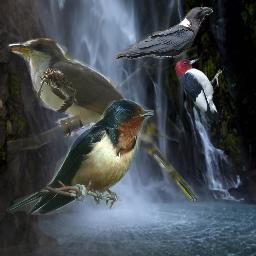Crow: (114, 7, 213, 60)
Cuckoo: (7, 38, 197, 201)
Swallow: (7, 99, 154, 215)
Woodpecker: (175, 58, 225, 123)
